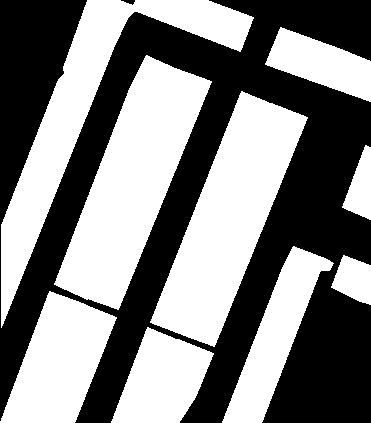parkingspot: (1, 0, 138, 327), (181, 103, 307, 346), (84, 68, 211, 309), (150, 91, 275, 335), (54, 55, 177, 299), (222, 246, 333, 423), (0, 291, 85, 423), (35, 303, 116, 423), (265, 27, 371, 101), (111, 327, 181, 423), (131, 0, 253, 51), (147, 339, 213, 423), (342, 145, 371, 219), (331, 255, 371, 304)
